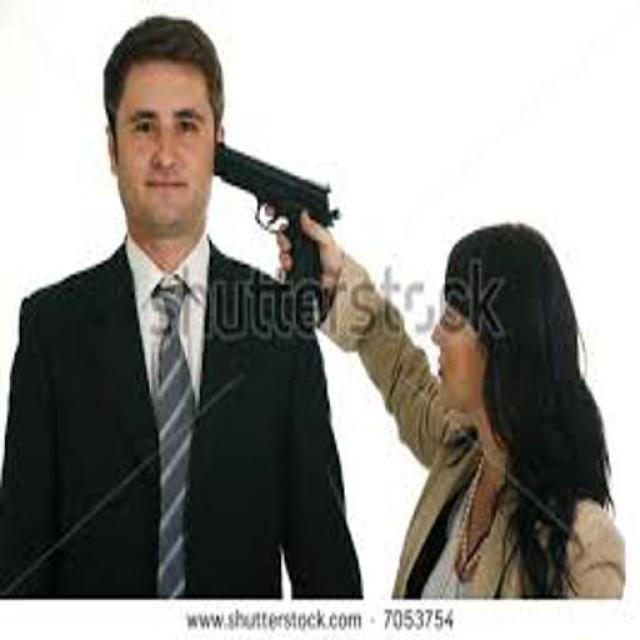pistol: (206, 135, 336, 307)
